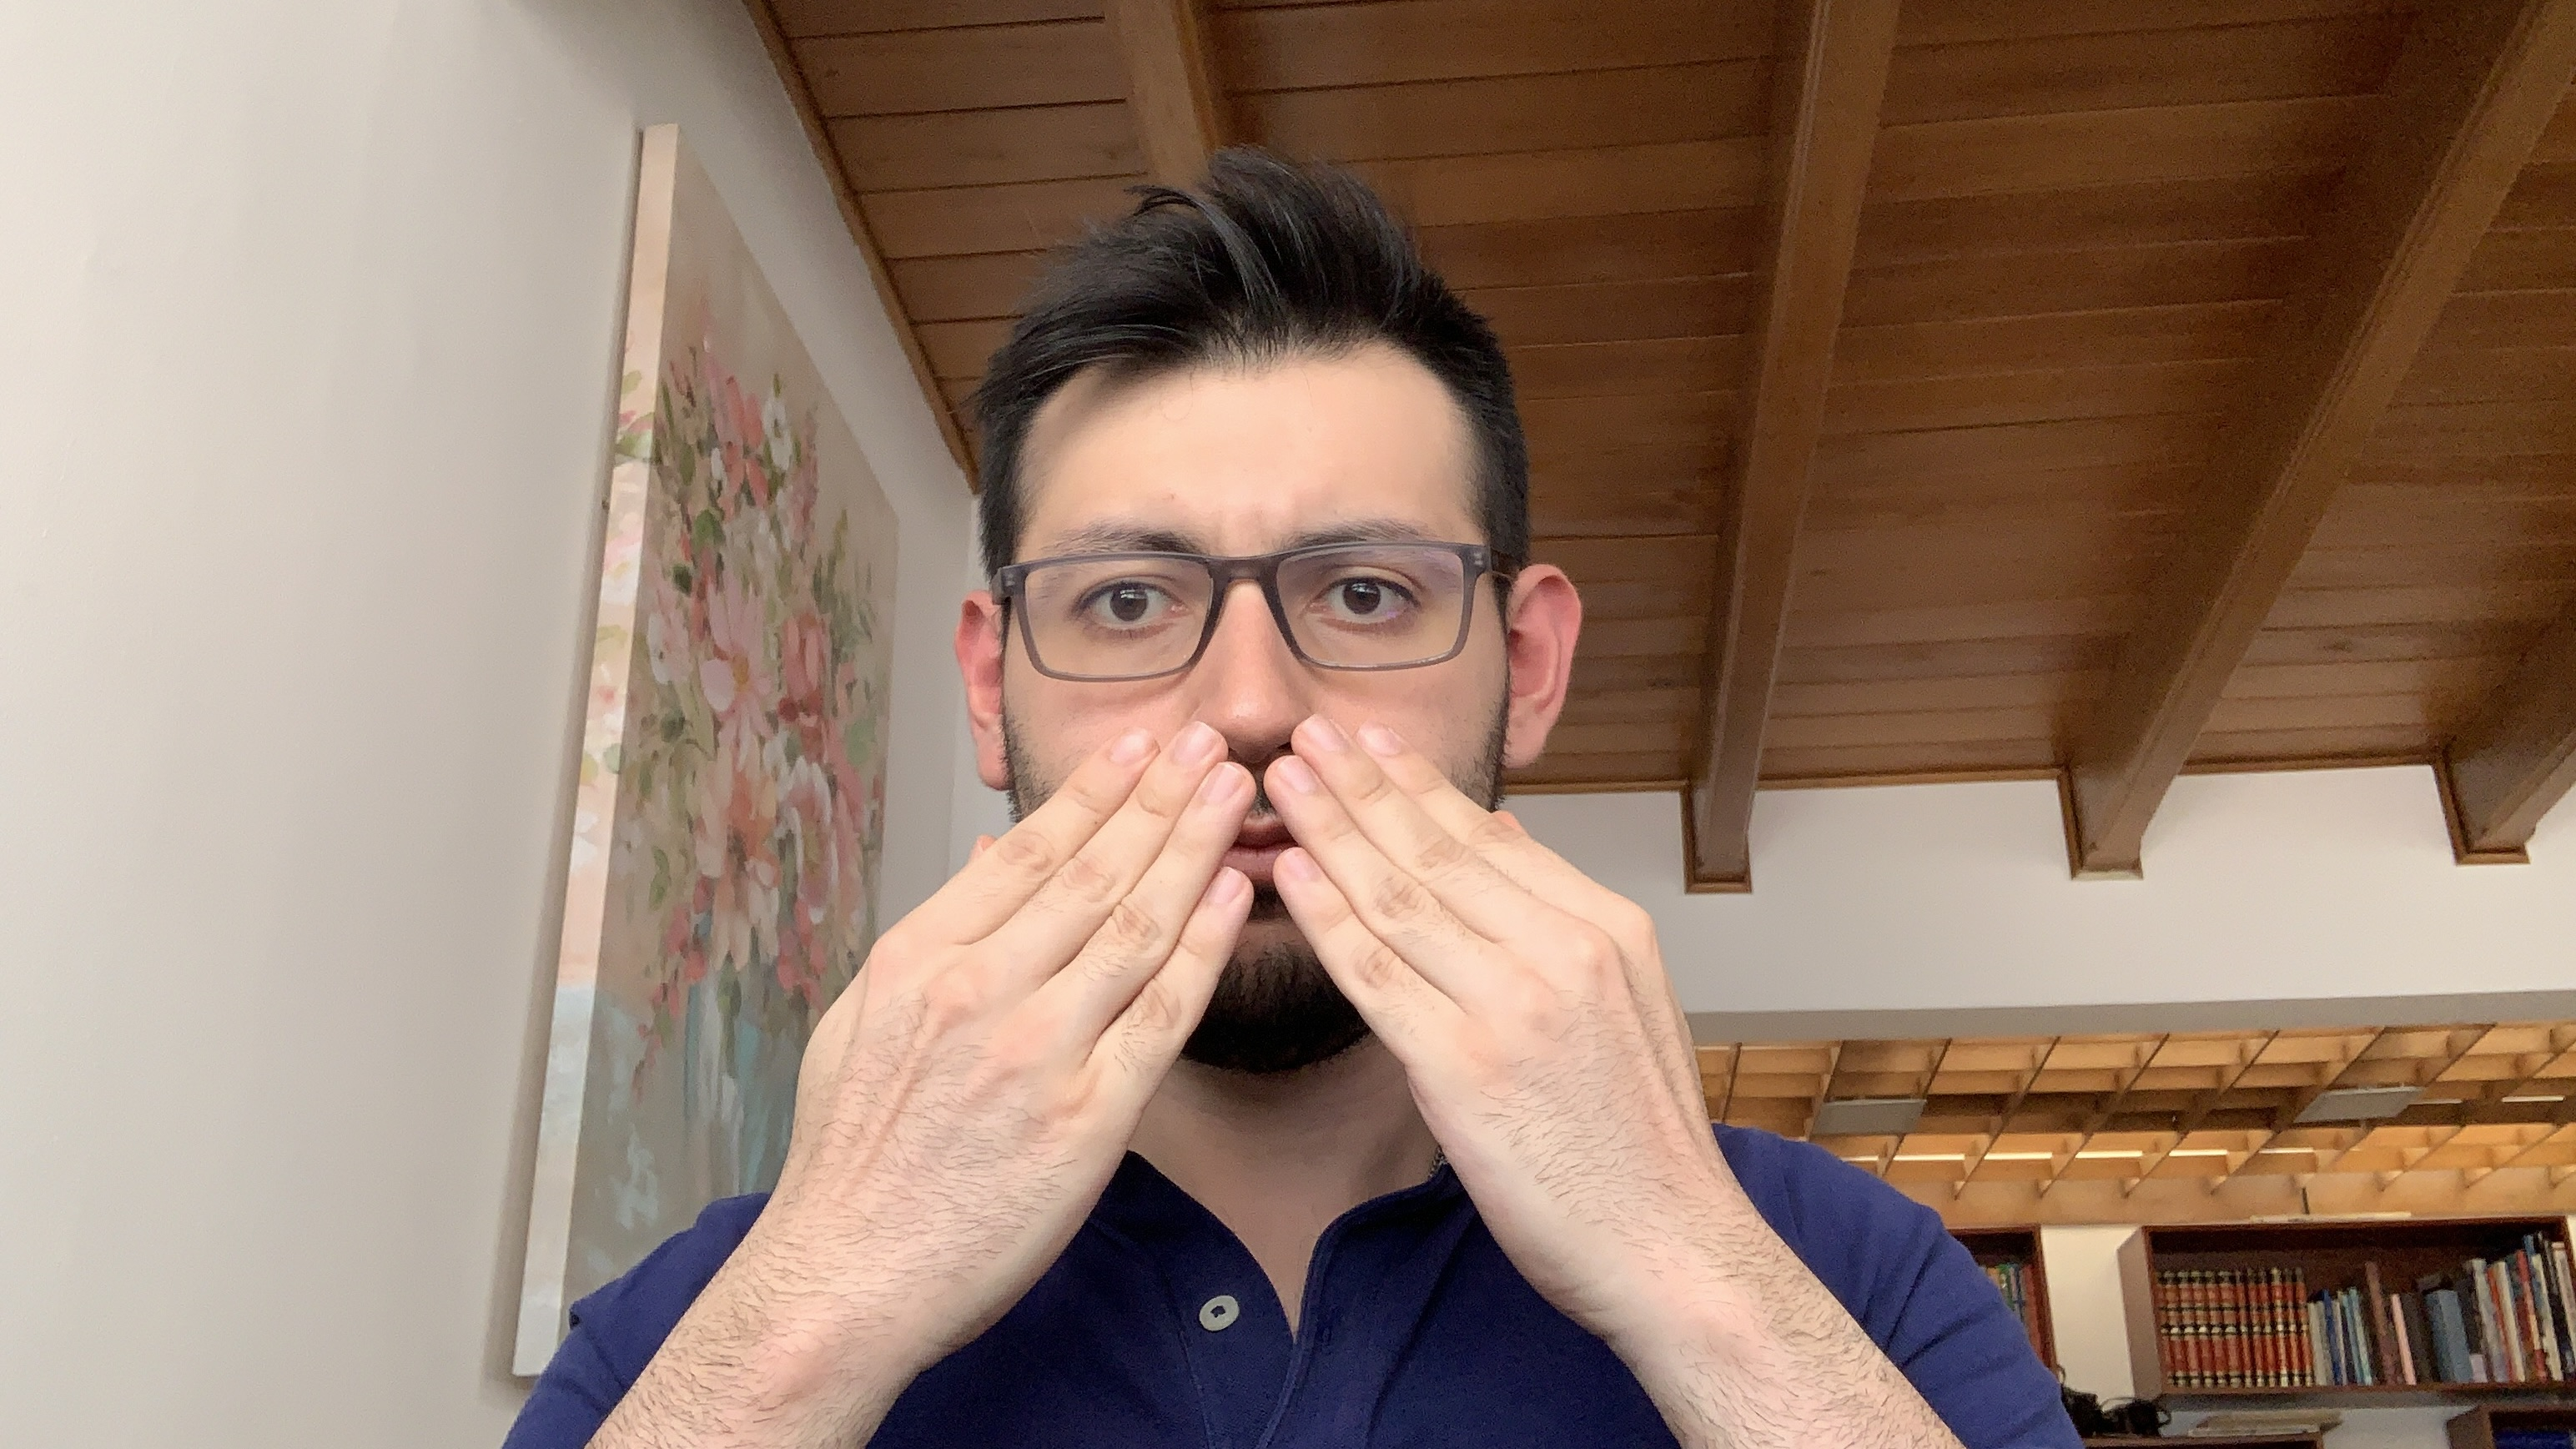Thank You: (761, 715, 1808, 1338)
